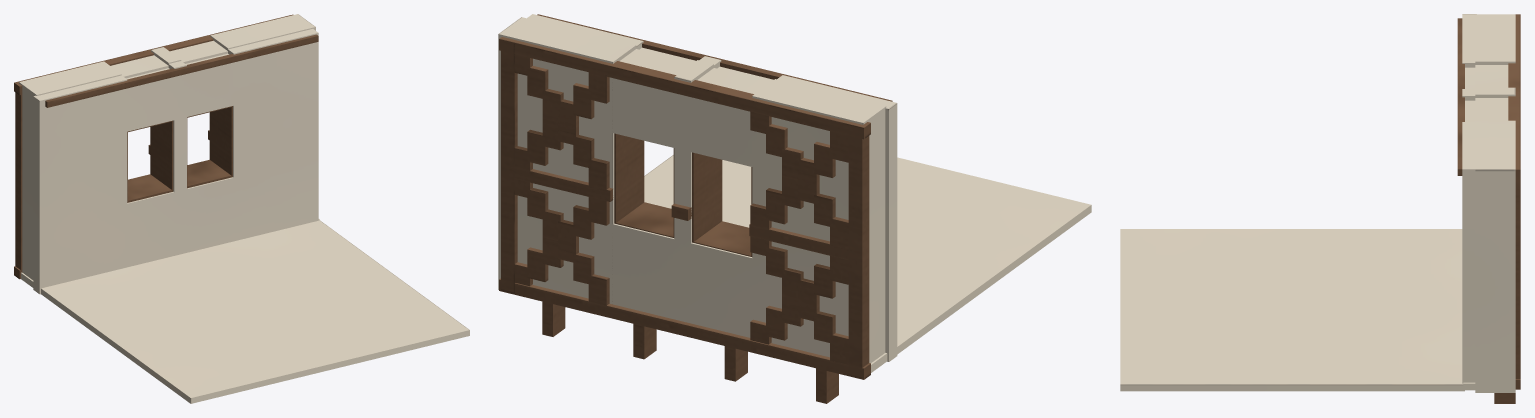
The model's file is med_window_b_jetty.glb.
3 renders of one model, left to right at view 1: azimuth 30°, elevation 25°; view 2: azimuth 150°, elevation 25°; view 3: azimuth 270°, elevation 25°, orthographic. The views are drawn at different scales.
Visible parts, largest first — view 1: med_window_b_jetty; view 2: med_window_b_jetty; view 3: med_window_b_jetty.
Boxes of the visible parts, <box> form: med_window_b_jetty: <box>14,14,469,403</box>; med_window_b_jetty: <box>498,14,1091,403</box>; med_window_b_jetty: <box>1120,14,1520,403</box>.
Size of the model in its own units: 4.04 by 3.04 by 4.36.
Materials: 1 (1 with a texture image).
